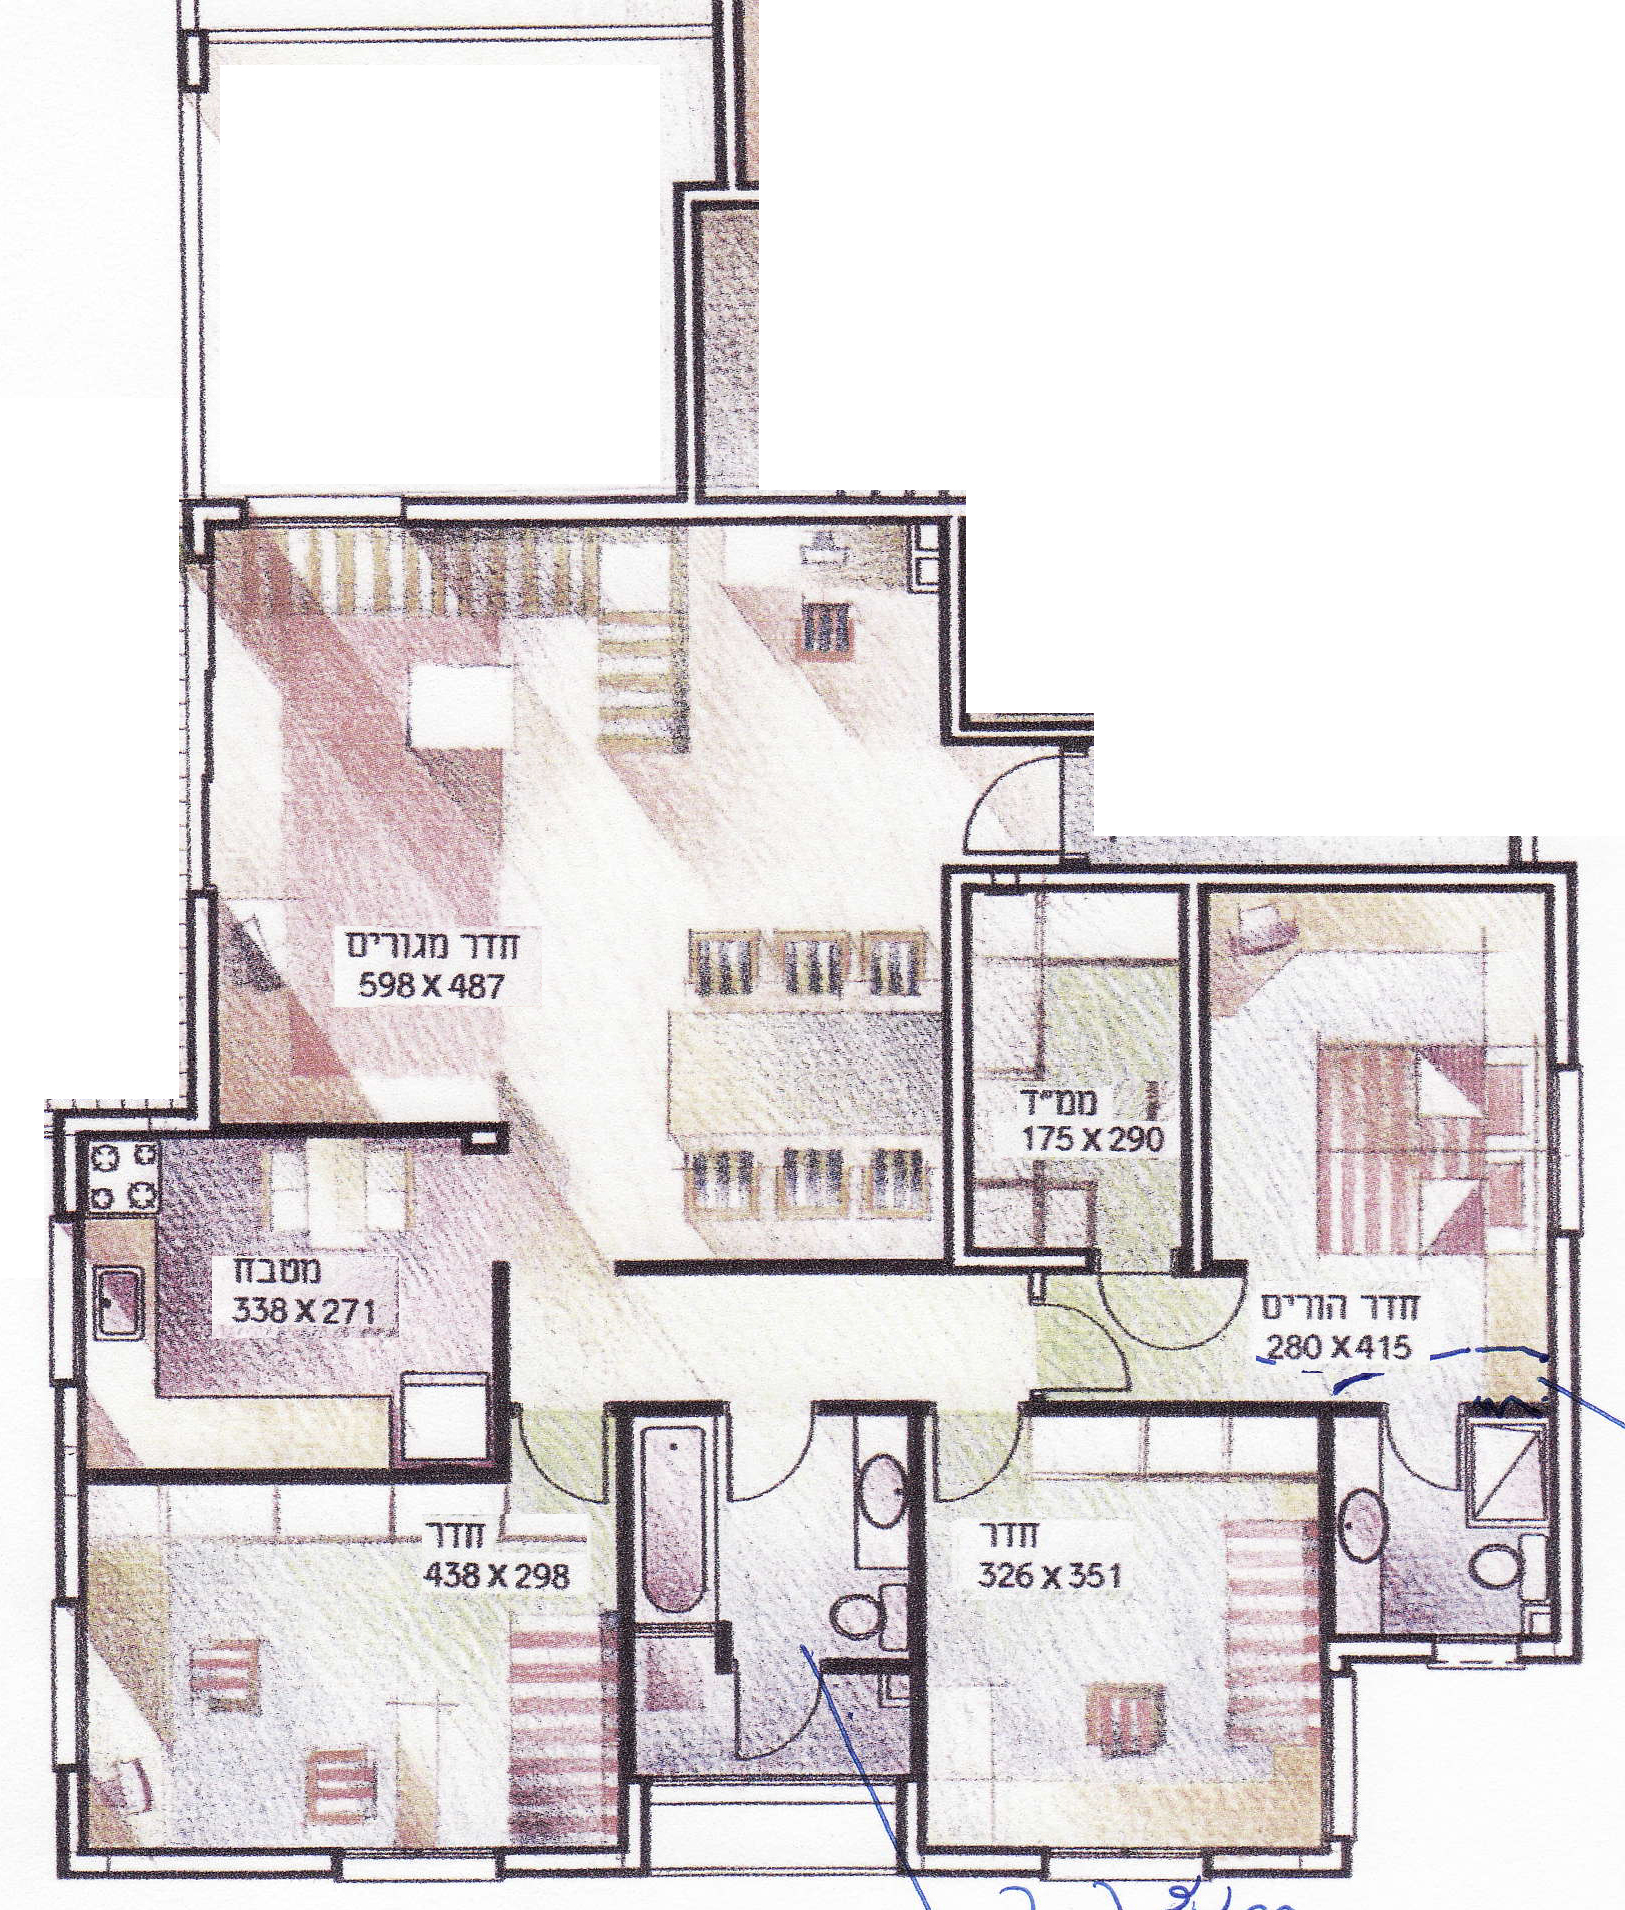door: (924, 1406, 1032, 1509), (724, 1397, 816, 1517), (508, 1406, 613, 1509), (1385, 1409, 1465, 1497)
wall: (616, 1417, 635, 1781), (82, 1468, 511, 1484)
